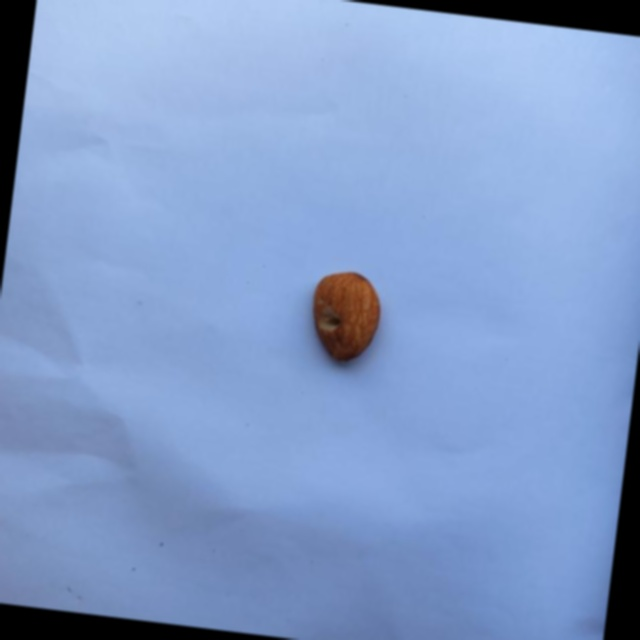grade3: (301, 263, 387, 370)
